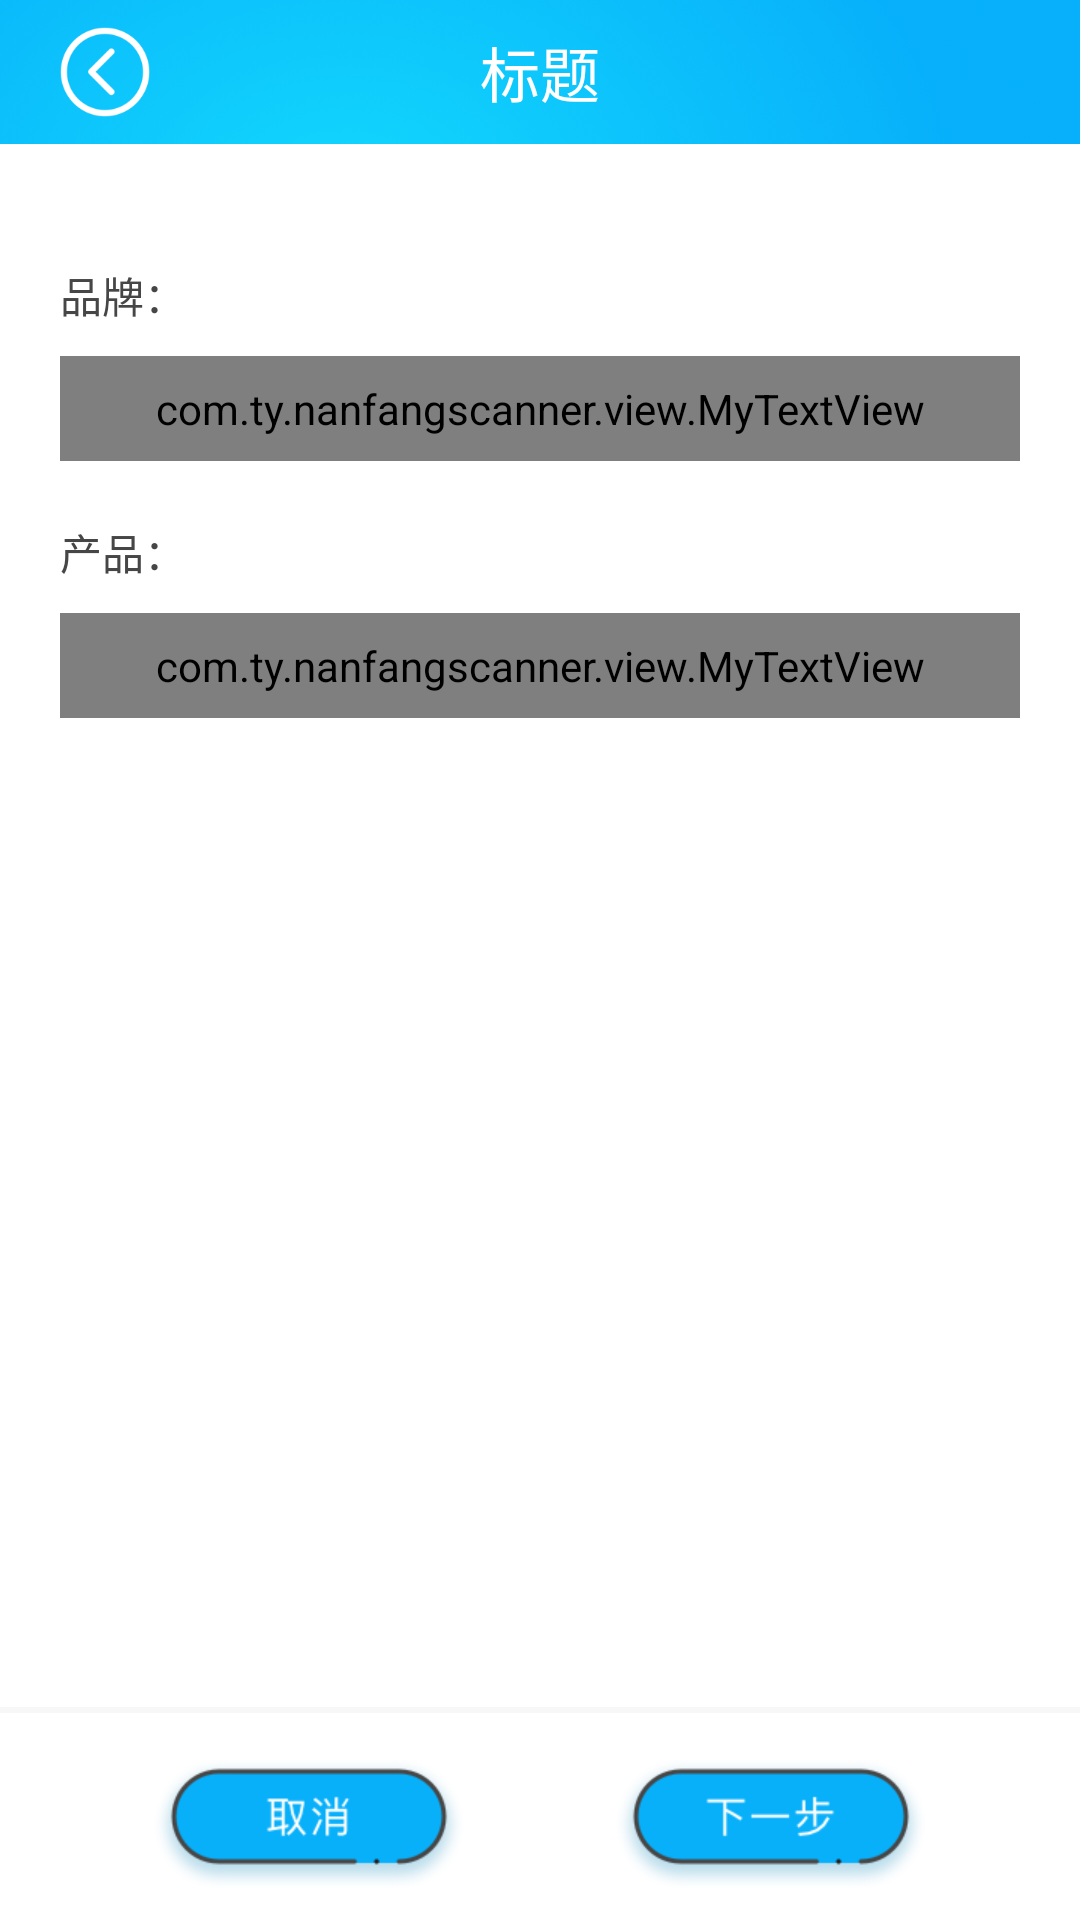

Icon bounding boxes for this 1080 x 1920 phone screenshot, format box=[x1, y1, x2, y2]:
back: box=[60, 27, 150, 117]
